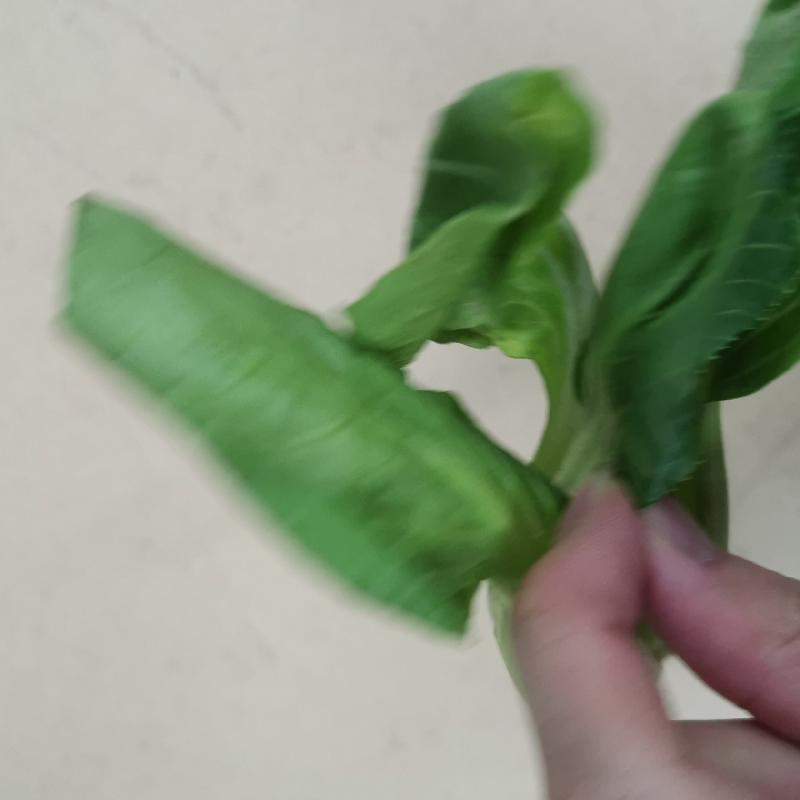green vegatable: (65, 12, 798, 604)
